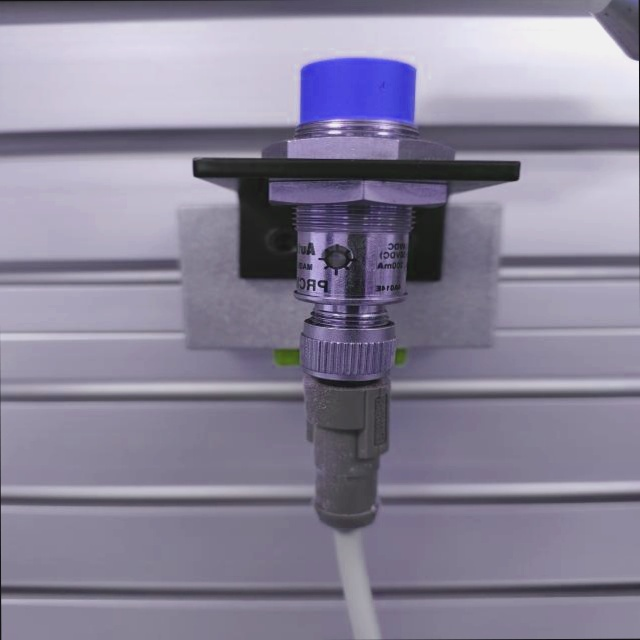inductive sensor: (161, 50, 526, 540)
